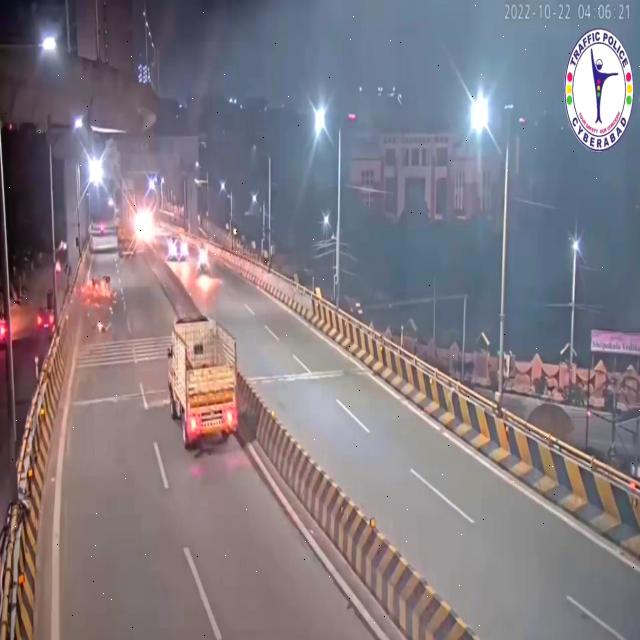accident: (76, 275, 119, 336)
